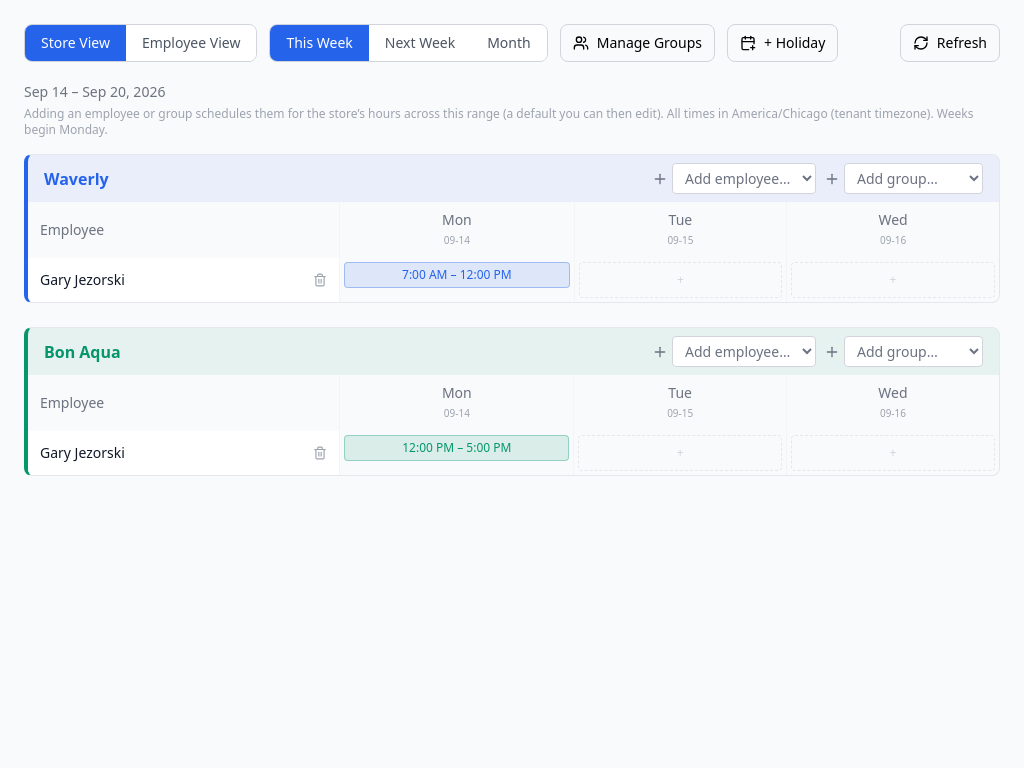
Test case: Store View › clicking an existing segment loads its actual times; date is read-only and time-only
Click the button "7:00 AM – 12:00 PM": x=457, y=275 [344,262,570,288]
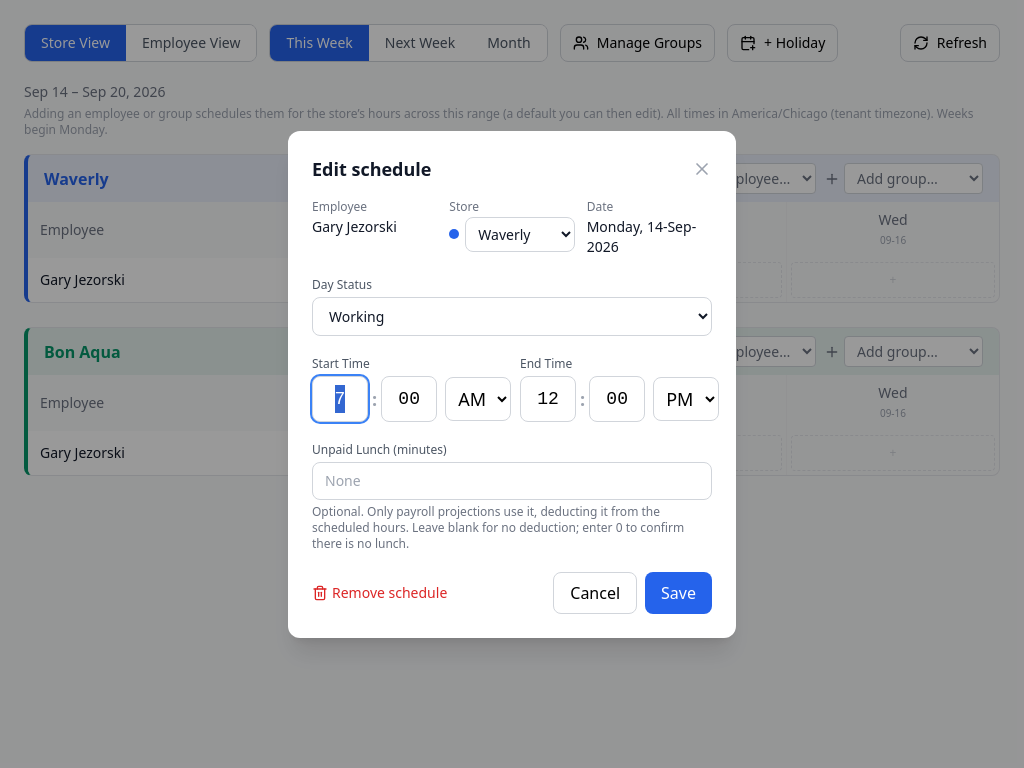
Expected: the heading "Edit schedule" is shown, [312,154,432,182]
Expected: the text "Monday, 14-Sep-2026" is shown, [587,216,712,256]
Expected: the field named "Start Hour" holds "7", [312,376,368,422]
